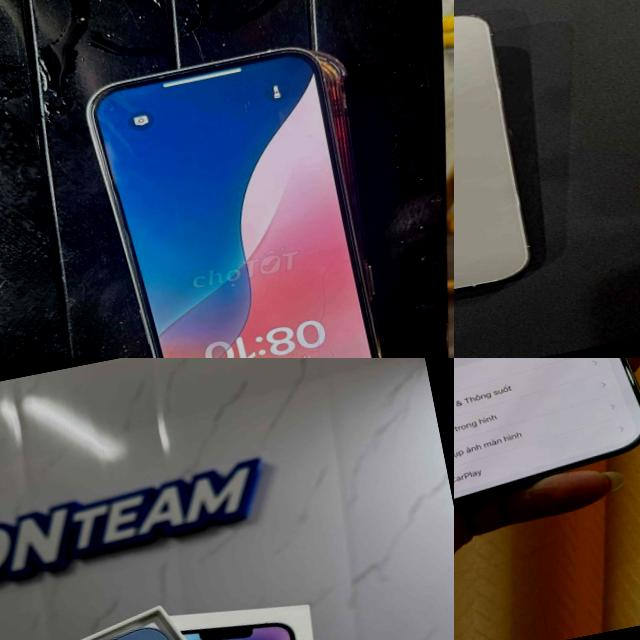gen_12_13: (76, 33, 415, 358), (454, 0, 554, 340)
gen_16: (454, 358, 640, 502)
